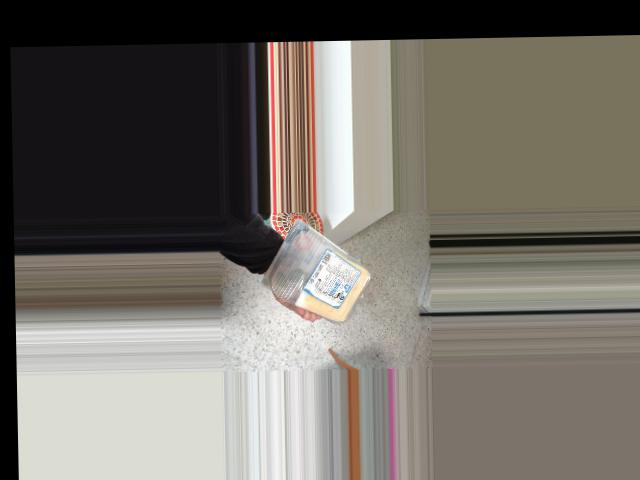cheese: (275, 227, 376, 311)
